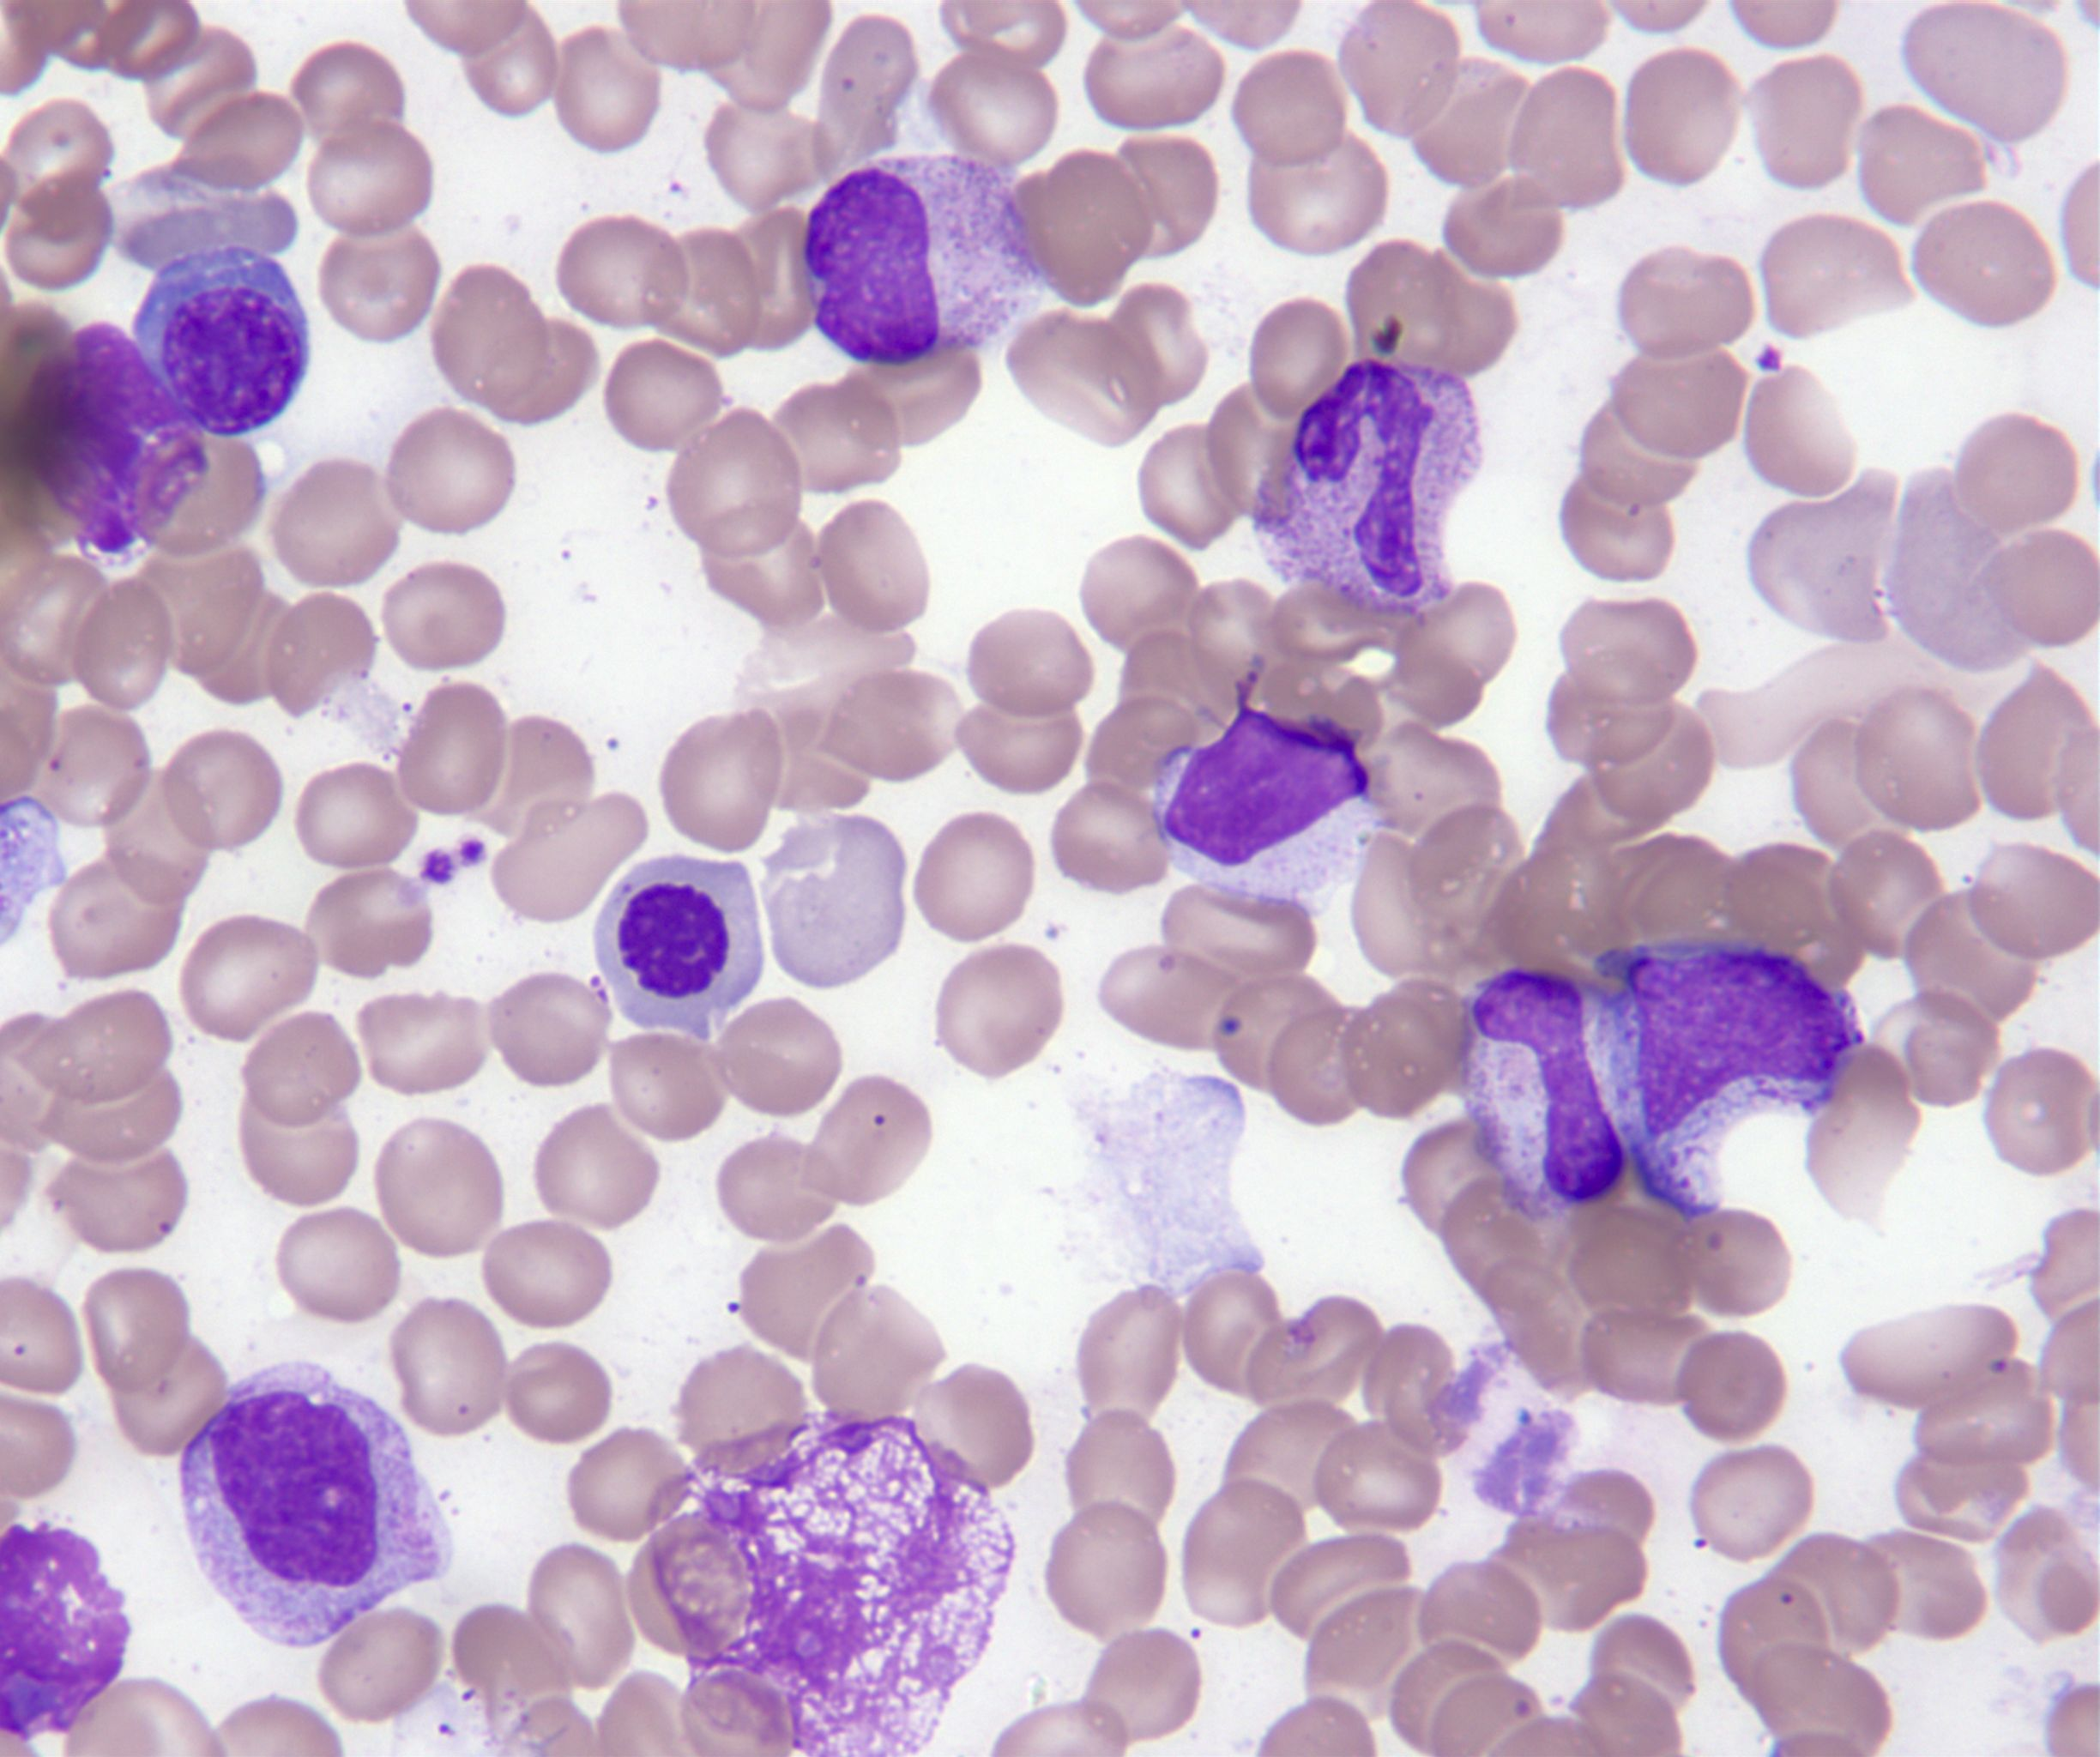22: (136, 246, 310, 438)
24: (595, 855, 764, 1043)
3: (181, 1361, 452, 1647), (1594, 942, 1863, 1221), (806, 155, 1040, 366)
32: (1155, 668, 1383, 906)
5: (1254, 359, 1483, 614), (1453, 970, 1629, 1223)
x: (647, 1412, 1013, 1757), (16, 321, 209, 565), (2, 1521, 131, 1741)
